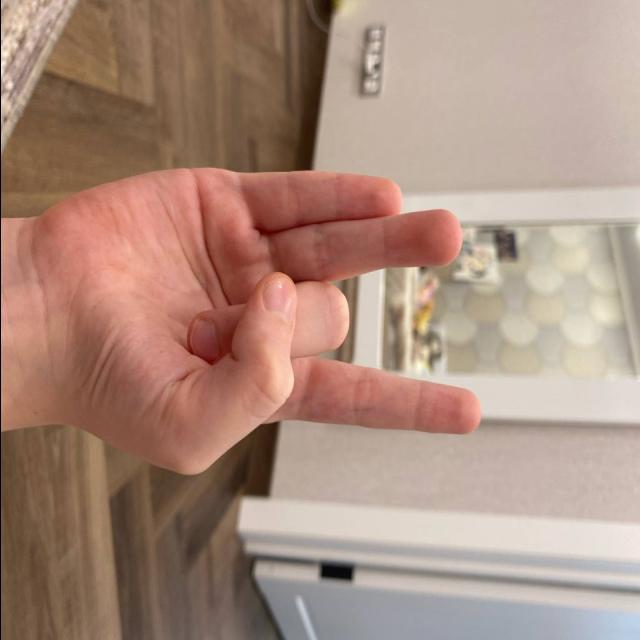r: (25, 149, 505, 513)
